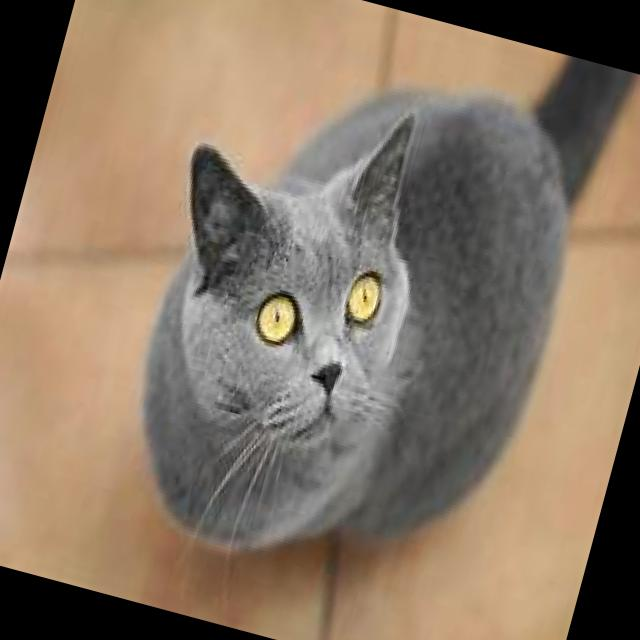animal: (90, 0, 640, 628)
